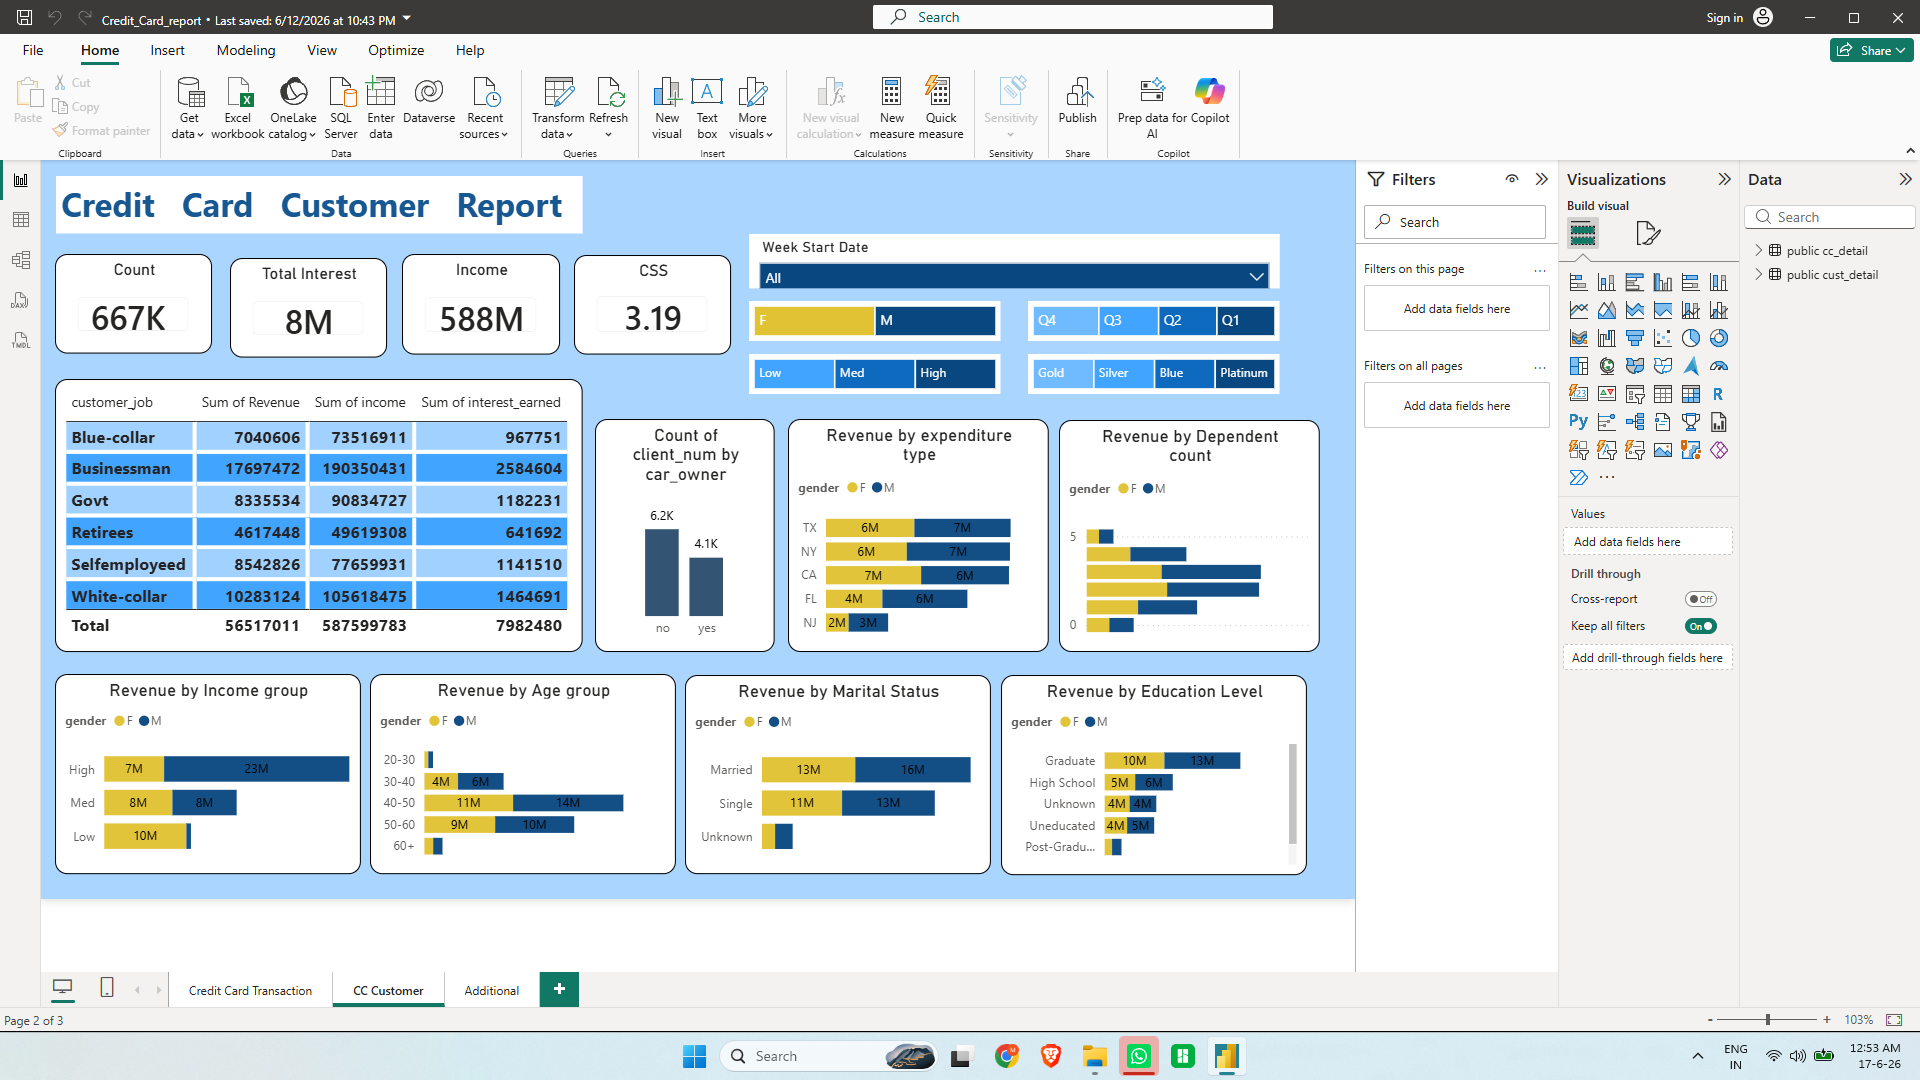

The page's visual inventory and layout, read from the dashboard file:
{"tool":"powerbi","page":{"name":"CC Customer","canvas":[1280,720],"ordinal":1},"visuals":[{"type":"textbox","box":[14.6,15.6,513.4,56.5],"z":0},{"type":"barChart","title":"Revenue by Income group","fields":{"Y":["Sum(public cc_detail.Revenue)"],"Category":["public cust_detail.IncomeGroup"],"Series":["public cust_detail.gender"]},"box":[13.6,500.7,298,194.8],"z":1000},{"type":"tableEx","fields":{"Values":["public cust_detail.customer_job","Sum(public cc_detail.Revenue)","Sum(public cust_detail.income)","Sum(public cc_detail.interest_earned)"]},"box":[13.6,213.3,514.3,265.9],"z":2000},{"type":"treemap","fields":{"Group":["public cc_detail.qtr"],"Values":["Avg(public cc_detail.client_num)"]},"box":[961.5,137.4,245.5,39],"z":4000},{"type":"treemap","fields":{"Group":["public cust_detail.gender"],"Values":["Avg(public cc_detail.client_num)"]},"box":[689.7,137.4,245.5,39],"z":5000},{"type":"treemap","fields":{"Group":["public cust_detail.IncomeGroup"],"Values":["Avg(public cc_detail.client_num)"]},"box":[689.7,189,245.5,39],"z":6000},{"type":"treemap","fields":{"Group":["public cc_detail.card_category"],"Values":["Avg(public cc_detail.client_num)"]},"box":[961.5,189,245.5,39],"z":7000},{"type":"cardVisual","title":"CSS","fields":{"Data":["Avg(public cust_detail.cust_satisfaction_score)"]},"box":[519.2,92.5,152.9,97.4],"z":8000},{"type":"cardVisual","title":"Income","fields":{"Data":["Sum(public cust_detail.income)"]},"box":[351.7,91.6,153.9,98.4],"z":9000},{"type":"cardVisual","title":"Total Interest","fields":{"Data":["Sum(public cc_detail.interest_earned)"]},"box":[184.1,95.5,152.9,97.4],"z":10000},{"type":"cardVisual","title":"Count","fields":{"Data":["Sum(public cc_detail.total_trans_ct)"]},"box":[13.6,91.6,152.9,97.4],"z":11000},{"type":"columnChart","fields":{"Category":["public cust_detail.car_owner"],"Y":["CountNonNull(public cust_detail.client_num)"]},"box":[539.7,252.3,175.3,227],"z":13000},{"type":"barChart","title":"Revenue by Age group","fields":{"Y":["Sum(public cc_detail.Revenue)"],"Category":["public cust_detail.AgeGroup"],"Series":["public cust_detail.gender"]},"box":[320.5,500.7,298.1,194.8],"z":14000},{"type":"barChart","title":"Revenue by Dependent count","fields":{"Y":["Sum(public cc_detail.Revenue)"],"Category":["public cust_detail.dependent_count"],"Series":["public cust_detail.gender"]},"box":[991.7,253.3,254.2,226],"z":15000},{"type":"barChart","title":"Revenue by Education Level","fields":{"Y":["Sum(public cc_detail.Revenue)"],"Category":["public cust_detail.education_level"],"Series":["public cust_detail.gender"]},"box":[935.2,501.7,298,194.8],"z":16000},{"type":"barChart","title":"Revenue by expenditure type","fields":{"Y":["Sum(public cc_detail.Revenue)"],"Category":["public cust_detail.state_cd"],"Series":["public cust_detail.gender"]},"box":[727.7,252.3,254.2,227],"z":17000},{"type":"barChart","title":"Revenue by Marital Status","fields":{"Y":["Sum(public cc_detail.Revenue)"],"Category":["public cust_detail.marital_status"],"Series":["public cust_detail.gender"]},"box":[627.3,501.7,298.1,193.9],"z":18000},{"type":"slicer","fields":{"Values":["public cc_detail.week_start_date"]},"box":[689.7,72.1,517.3,52.6],"z":18001}]}

Visuals, with their boxes on the page's 1280x720 design canvas (x1, y1, x2, y2). These are canvas units, not pixel positions in the 1920x1080 screenshot, which may show the page scaled, cropped or inside an application window:
textbox: <box>15,16,528,72</box>
"Revenue by Income group" barChart: <box>14,501,312,696</box>
tableEx - public cust_detail.customer_job x Sum(public cc_detail.Revenue): <box>14,213,528,479</box>
treemap - public cc_detail.qtr x Avg(public cc_detail.client_num): <box>962,137,1207,176</box>
treemap - public cust_detail.gender x Avg(public cc_detail.client_num): <box>690,137,935,176</box>
treemap - public cust_detail.IncomeGroup x Avg(public cc_detail.client_num): <box>690,189,935,228</box>
treemap - public cc_detail.card_category x Avg(public cc_detail.client_num): <box>962,189,1207,228</box>
"CSS" cardVisual: <box>519,92,672,190</box>
"Income" cardVisual: <box>352,92,506,190</box>
"Total Interest" cardVisual: <box>184,96,337,193</box>
"Count" cardVisual: <box>14,92,166,189</box>
columnChart - public cust_detail.car_owner x CountNonNull(public cust_detail.client_num): <box>540,252,715,479</box>
"Revenue by Age group" barChart: <box>320,501,619,696</box>
"Revenue by Dependent count" barChart: <box>992,253,1246,479</box>
"Revenue by Education Level" barChart: <box>935,502,1233,696</box>
"Revenue by expenditure type" barChart: <box>728,252,982,479</box>
"Revenue by Marital Status" barChart: <box>627,502,925,696</box>
slicer - public cc_detail.week_start_date: <box>690,72,1207,125</box>
